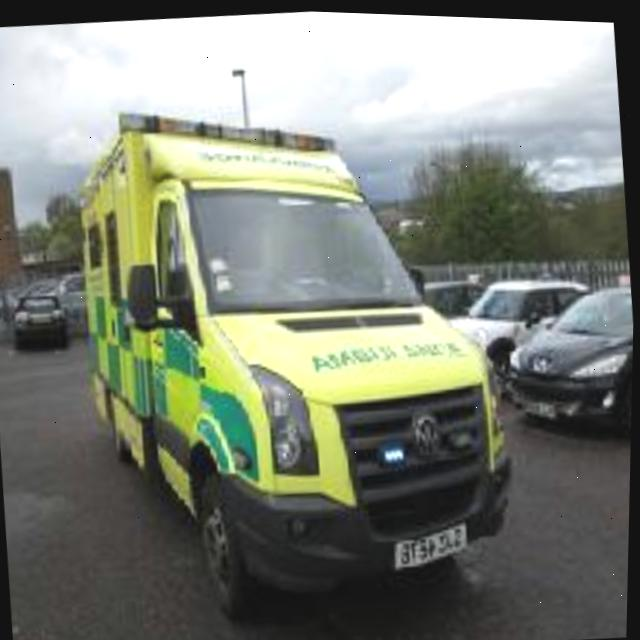emergency: (61, 93, 512, 603)
